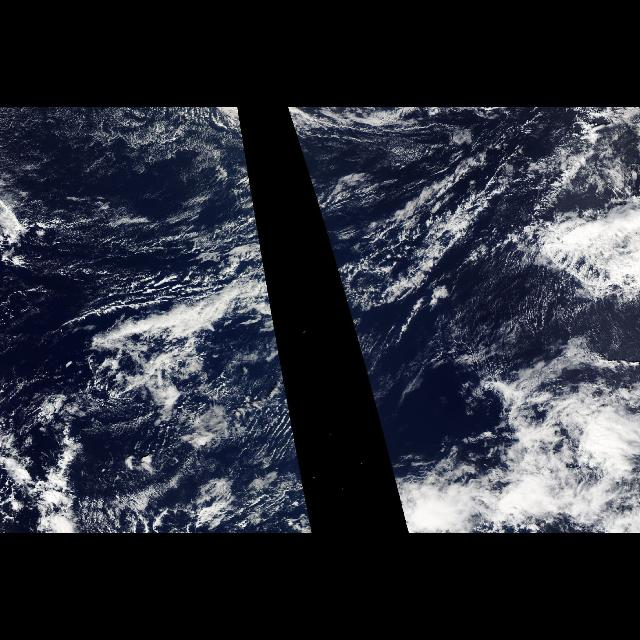Fish: (12, 256, 314, 534), (335, 262, 345, 298)
Sugar: (3, 111, 241, 217)
